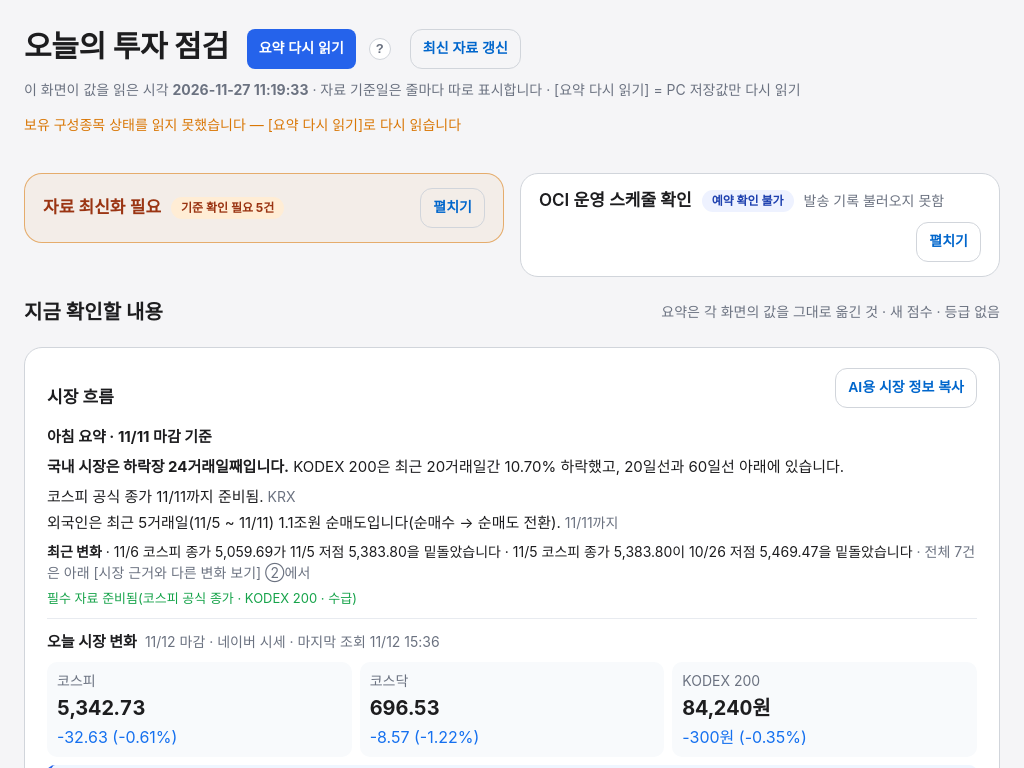
보완 2차 — 아침 요약 · 오늘 시장 변화 · 근거 표 · ③ › ③ 건너뜀(② 가 시작 · 진행 중) = 사유 줄만 · 다시 읽기 없음 · ② 거절(③ 진행 중)은 실패가 아닌 안내
Click the button "최신 자료 갱신": (465, 48) [410,28,521,68]
Wait 1600 ms
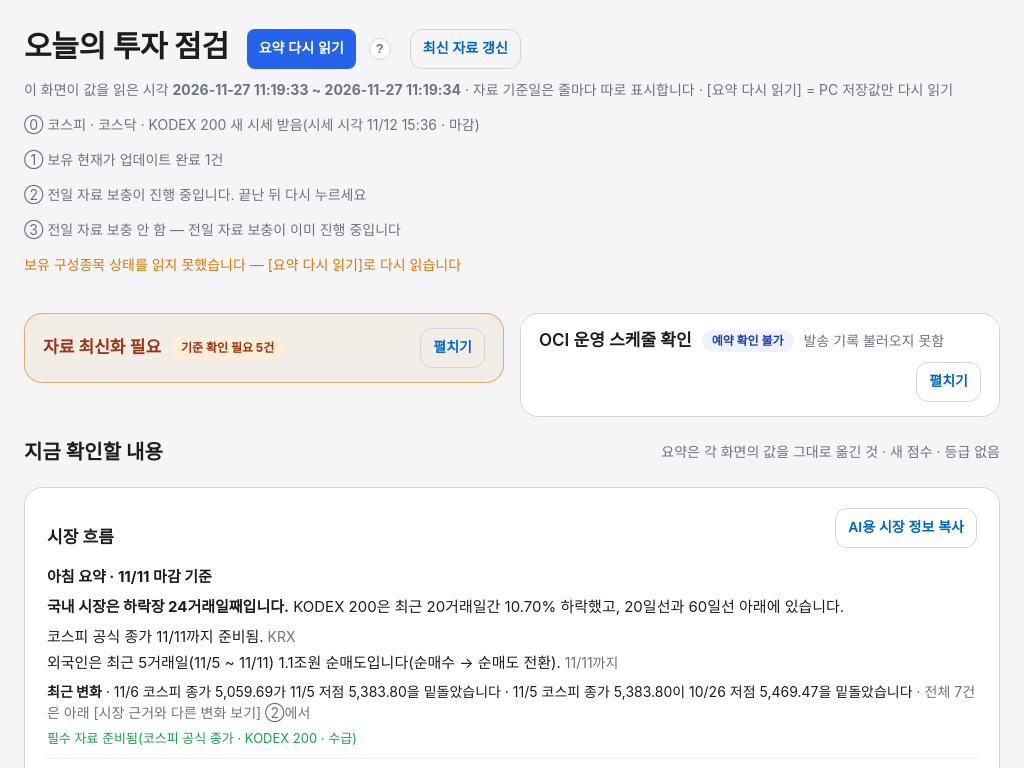
Result: the text with test id "tc-prevday-result" reads "③ 전일 자료 보충 안 함 — 전일 자료 보충이 이미 진행 중입니다" at [24,221,401,238]
Result: the element with test id "tc-market-result" reads "② 전일 자료 보충이 진행 중입니다. 끝난 뒤 다시 누르세요" at [24,186,366,203]
